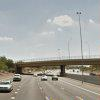Bridge: (13, 49, 96, 72)
